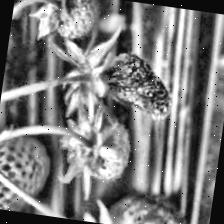Gray Mold: (52, 24, 180, 130)
